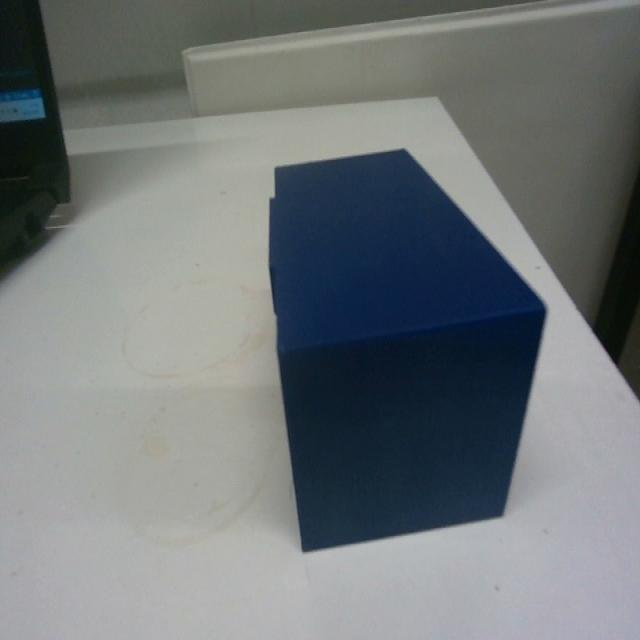Blue Cuboid: (264, 143, 548, 553)
